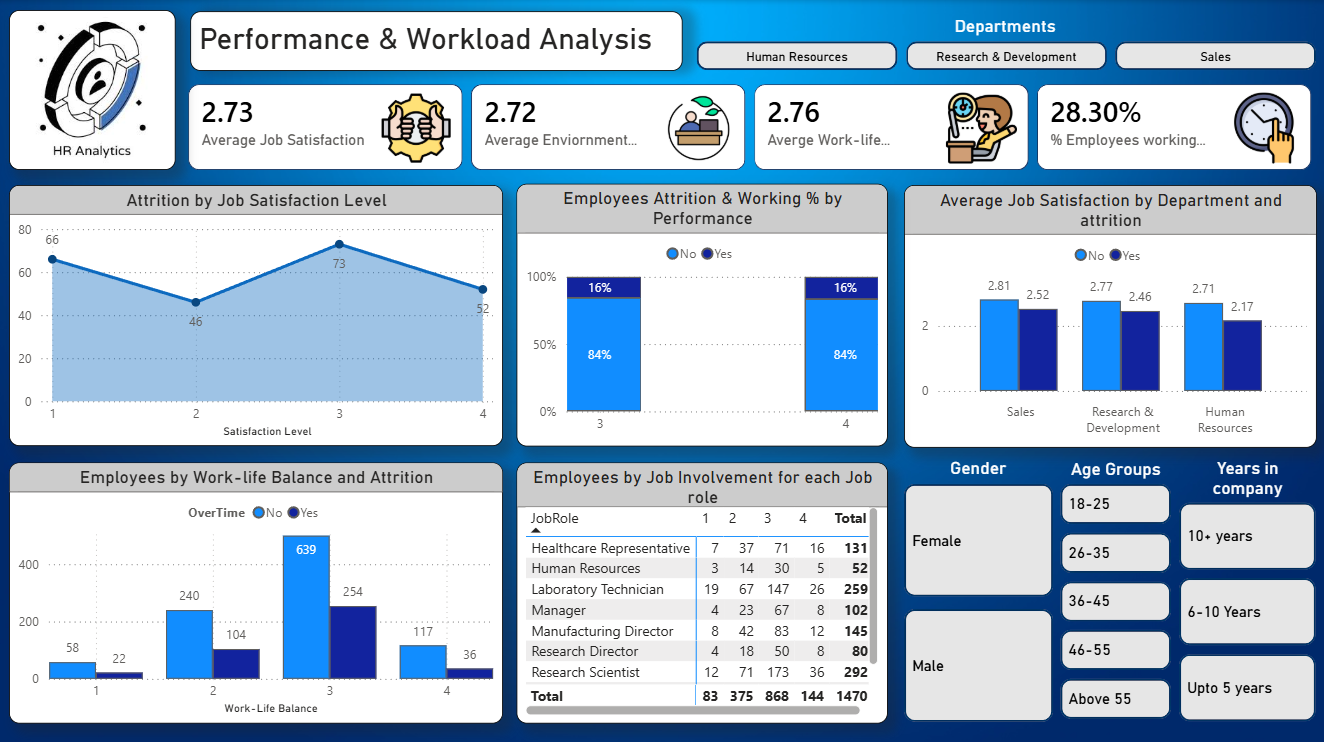

The page's visual inventory and layout, read from the dashboard file:
{"tool":"powerbi","page":{"name":"Performance & Workload","canvas":[1280,720],"ordinal":3},"visuals":[{"type":"cardVisual","fields":{"Data":["HR_Employee_Attrition.Avg_JobSatisfaction","HR_Employee_Attrition.Avg_EnviornmentSatisfaction","HR_Employee_Attrition.Avg_Worklifebalance","HR_Employee_Attrition.% Employees working Overtime"]},"box":[178.6,77.2,1093,91.7],"z":0},{"type":"textbox","box":[184.6,10.9,475.3,57.9],"z":1000},{"type":"advancedSlicerVisual","title":"Department slicer","fields":{"Values":["HR_Employee_Attrition.Department"]},"box":[673.2,39.8,598.4,29],"z":2000},{"type":"textbox","box":[803.5,9.7,335.4,30.2],"z":3000},{"type":"image","box":[9.7,9.7,160.5,154.4],"z":4000},{"type":"areaChart","title":"Attrition by Job Satisfaction Level","fields":{"Y":["HR_Employee_Attrition.Attrition_count"],"Category":["HR_Employee_Attrition.JobSatisfaction"]},"box":[9.7,178.6,476.5,252.1],"z":5000},{"type":"clusteredColumnChart","title":"Average Job Satisfaction by Department and attrition","fields":{"Category":["HR_Employee_Attrition.Department"],"Y":["HR_Employee_Attrition.Avg_JobSatisfaction"],"Series":["HR_Employee_Attrition.Attrition"]},"box":[873.5,178.6,398.1,253.4],"z":6000},{"type":"hundredPercentStackedColumnChart","title":"Employees Attrition & Working % by Performance","fields":{"Category":["HR_Employee_Attrition.PerformanceRating"],"Series":["HR_Employee_Attrition.Attrition"],"Y":["HR_Employee_Attrition.Total_Employees"]},"box":[499.5,177.3,358.3,253.4],"z":7000},{"type":"clusteredColumnChart","title":"Employees by Work-life Balance and Attrition","fields":{"Category":["HR_Employee_Attrition.WorkLifeBalance"],"Series":["HR_Employee_Attrition.OverTime"],"Y":["HR_Employee_Attrition.Total_Employees"]},"box":[9.7,446.4,476.5,252.1],"z":8000},{"type":"pivotTable","title":"Employees by Job Involvement for each Job role","fields":{"Rows":["HR_Employee_Attrition.JobRole"],"Columns":["HR_Employee_Attrition.JobInvolvement"],"Values":["HR_Employee_Attrition.Total_Employees"]},"box":[499.5,446.4,358.3,252.1],"z":9000},{"type":"advancedSlicerVisual","fields":{"Values":["HR_Employee_Attrition.Gender"]},"box":[873.5,466.9,144.8,231.6],"z":10000},{"type":"textbox","box":[873.5,436.7,143.6,30.2],"z":11000},{"type":"advancedSlicerVisual","fields":{"Values":["HR_Employee_Attrition.Age_grp"]},"box":[1024.3,466.9,107.4,231.6],"z":12000},{"type":"textbox","box":[1024.3,437.9,107.4,30.2],"z":13000},{"type":"advancedSlicerVisual","fields":{"Values":["HR_Employee_Attrition.Yrs_at_cmp_grp"]},"box":[1138.9,485,132.7,213.5],"z":14000},{"type":"textbox","box":[1138.9,436.7,132.7,48.3],"z":15000}]}

Visuals, with their boxes in screenshot pixels (x1, y1, x2, y2), scaled from the page's 1280x720 canvas onto the 1324x742 screenshot:
cardVisual - HR_Employee_Attrition.Avg_JobSatisfaction x HR_Employee_Attrition.Avg_EnviornmentSatisfaction: [185,80,1315,174]
textbox: [191,11,683,71]
"Department slicer" advancedSlicerVisual: [696,41,1315,71]
textbox: [831,10,1178,41]
image: [10,10,176,169]
"Attrition by Job Satisfaction Level" areaChart: [10,184,503,444]
"Average Job Satisfaction by Department and attrition" clusteredColumnChart: [904,184,1315,445]
"Employees Attrition & Working % by Performance" hundredPercentStackedColumnChart: [517,183,887,444]
"Employees by Work-life Balance and Attrition" clusteredColumnChart: [10,460,503,720]
"Employees by Job Involvement for each Job role" pivotTable: [517,460,887,720]
advancedSlicerVisual - HR_Employee_Attrition.Gender: [904,481,1053,720]
textbox: [904,450,1052,481]
advancedSlicerVisual - HR_Employee_Attrition.Age_grp: [1060,481,1171,720]
textbox: [1060,451,1171,482]
advancedSlicerVisual - HR_Employee_Attrition.Yrs_at_cmp_grp: [1178,500,1315,720]
textbox: [1178,450,1315,500]
